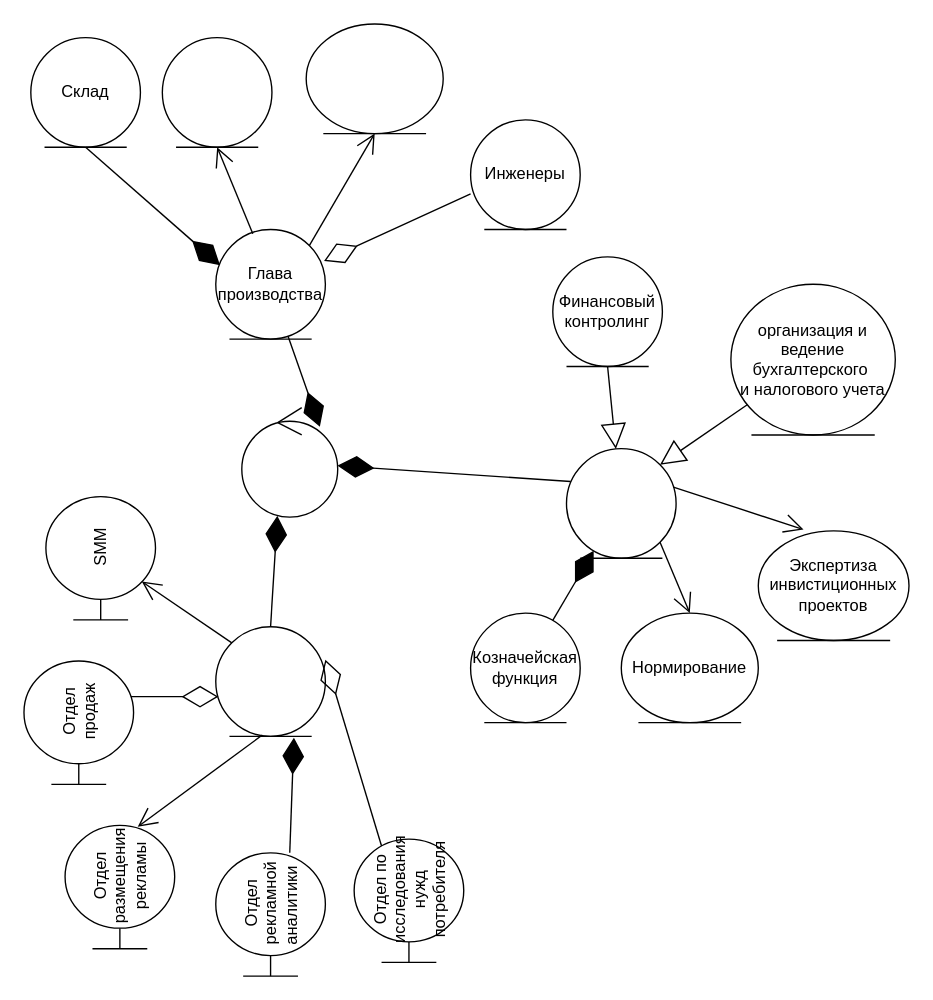
Some shapes in this 933 by 1000 pixel diagram are drawn without their labels. Each missing label, with the centre of its shape:
Ген. директор: (289,461)
Глава рекламного отдела: (269,680)
Глава финансового отдела: (620,502)
Контроль качества: (216,91)
цех по распределению товаров: (374,78)
